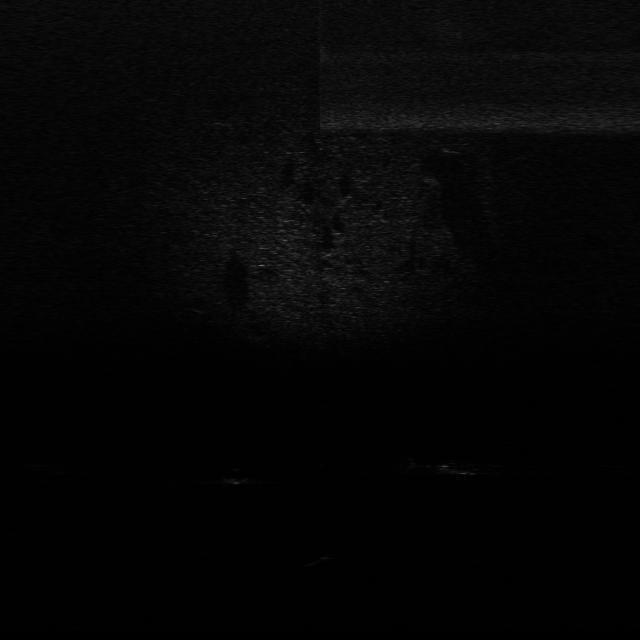ball: (219, 467, 253, 489)
circle cage: (297, 552, 357, 588)
human body: (400, 452, 506, 482)
